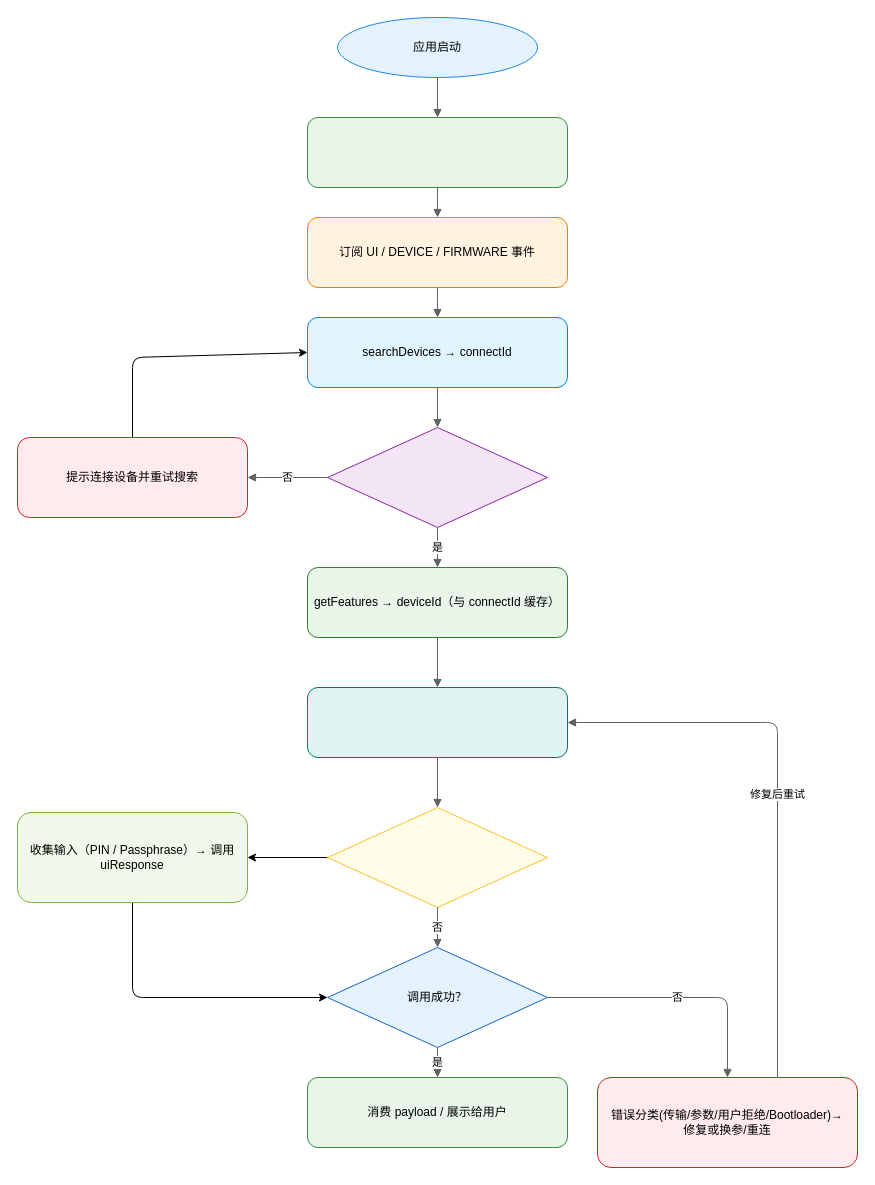
This 875x1185 diagram has some shape labels left out. The centre of each missing label's shape, as x and y in pixels:
"SDK.int(env, fetchConfig) 一次性" goes at point 437,152.
"发起核心 API 调用(connectId + deviceId + params)" goes at point 437,722.
"找到设备？" goes at point 437,477.
"收到 UI_REQUEST？" goes at point 437,857.
